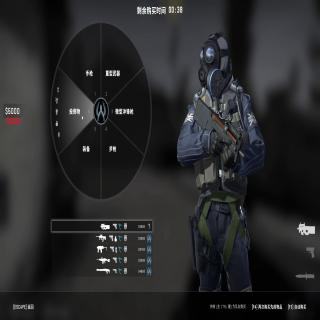CT-Body: (176, 32, 265, 289)
CT-Head: (197, 33, 230, 88)
